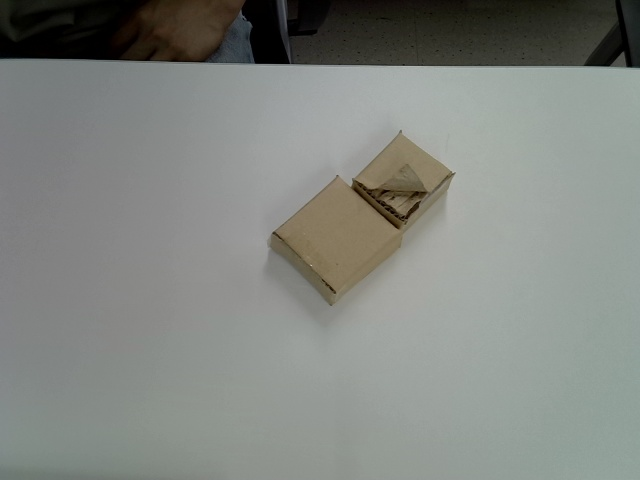defect: (351, 129, 454, 230)
normal: (267, 176, 403, 306)
